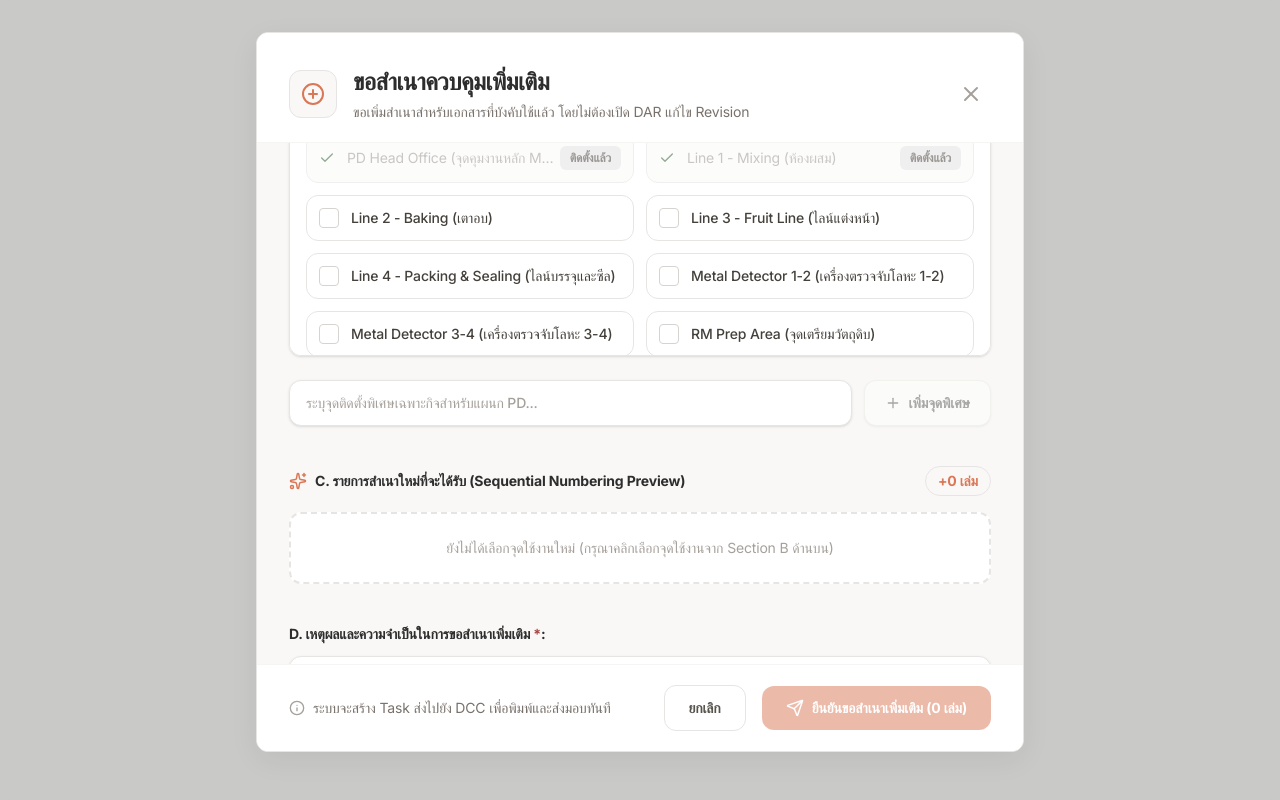
Test: Ad-Hoc Additional Controlled Copy Request System Tests › 2. RequestAdditionalCopiesModal Form & Live Numbering Preview › adds custom ad-hoc location and numbers sequentially
(page scrolled)
Type "Line 5 Automation Conveyor" into the field with placeholder "ระบุจุดติดตั้งพิเศษเฉพาะกิจสำหรับแผนก PD...".
click(570, 403); type("Line 5 Automation Conveyor")  # box [289,380,852,426]
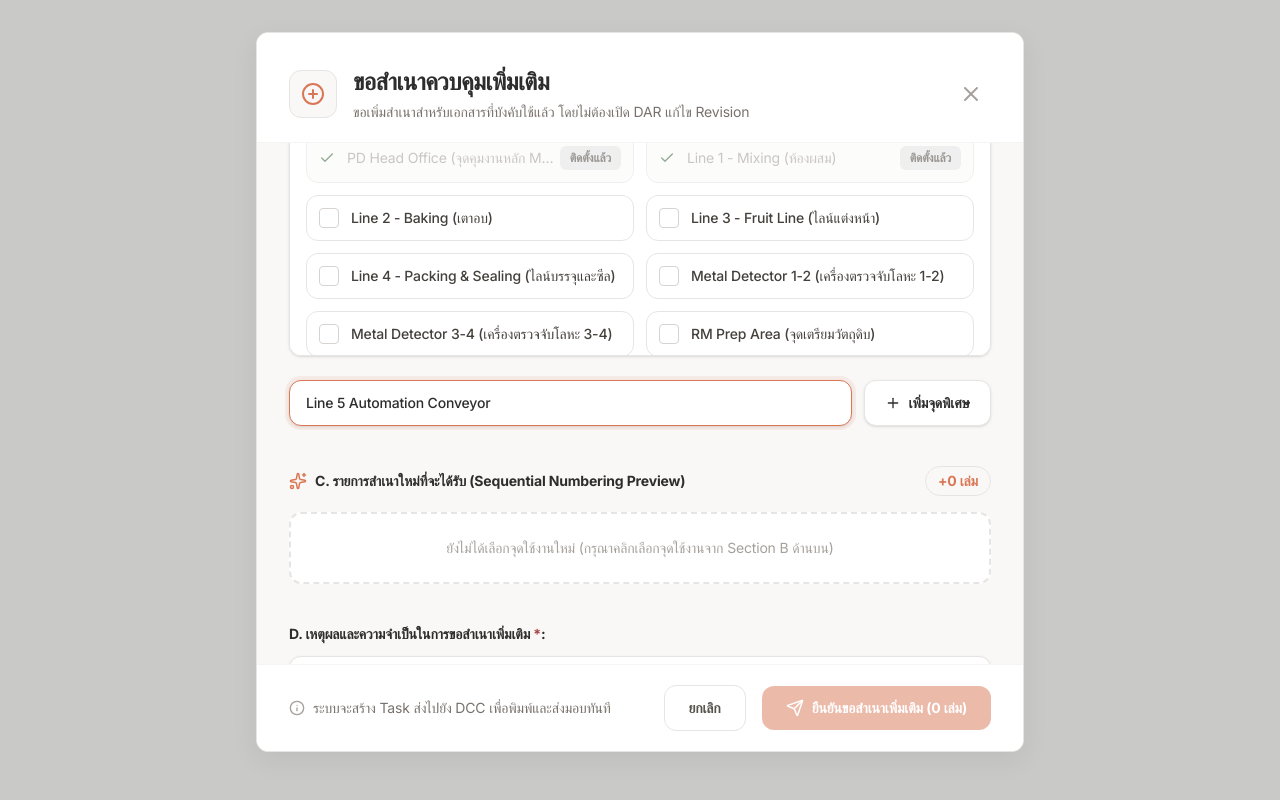
Click the button "เพิ่มจุดพิเศษ".
click(927, 403)  # box [864,380,991,426]
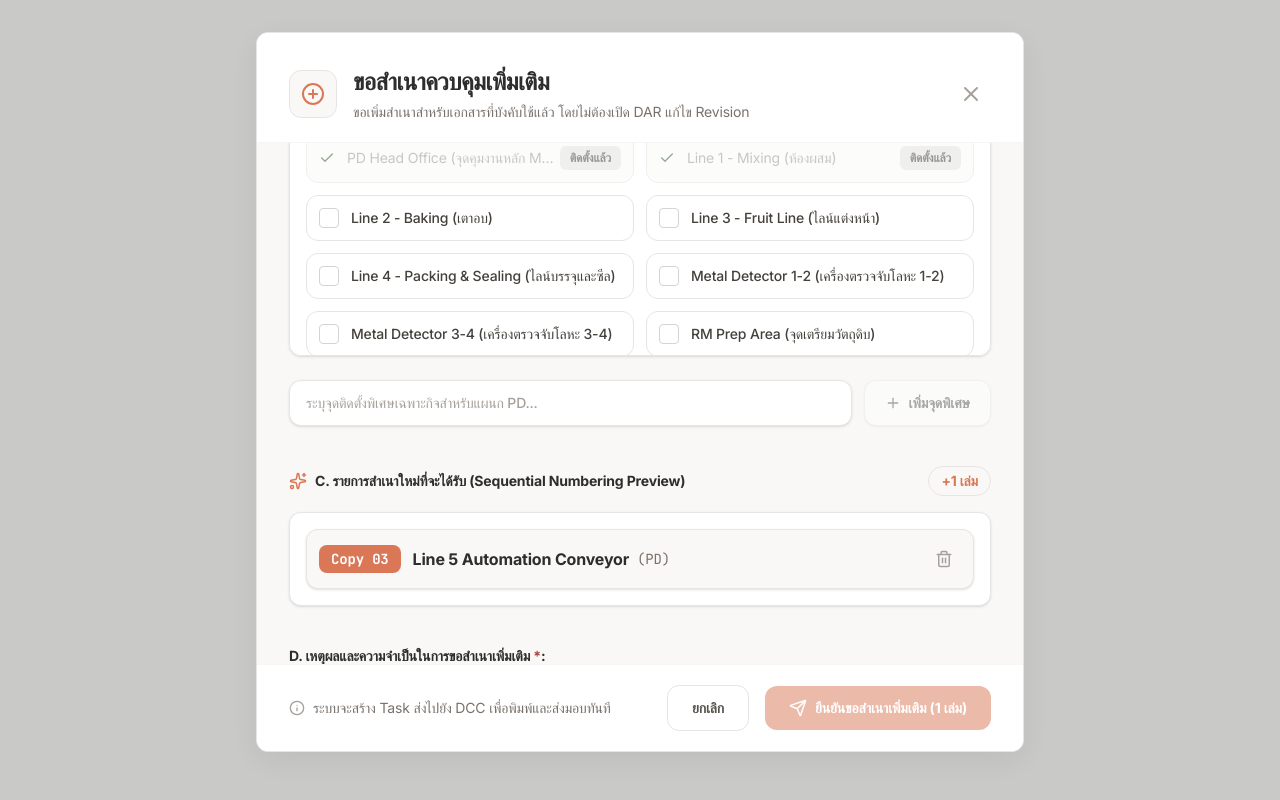
expect the text "Line 5 Automation Conveyor" is shown: met, box [413,547,629,571]
expect the text "Copy 03" is shown: met, box [319,545,401,573]
